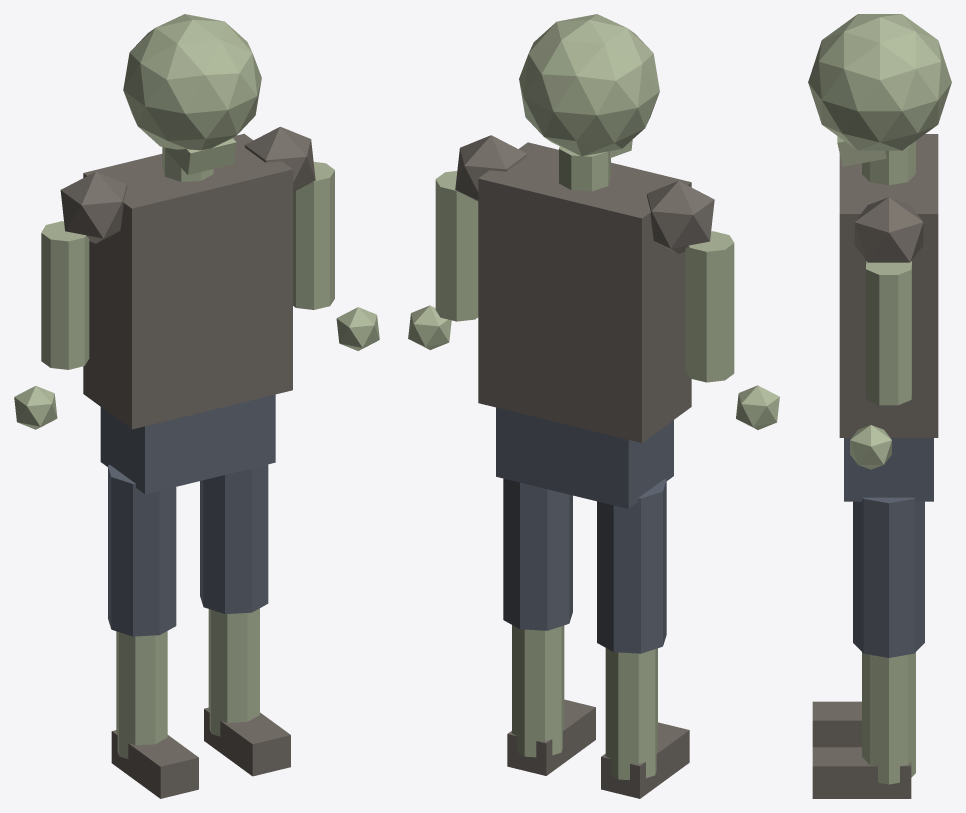
The model's file is zombie_stylized_v1.glb.
3 renders of one model, left to right at view 1: azimuth 30°, elevation 25°; view 2: azimuth 150°, elevation 25°; view 3: azimuth 270°, elevation 25°, orthographic.
Visible parts, largest first — view 1: Torso, Head, Pelvis, ThighL, ThighR, ArmL, ShinL, ShinR, ArmR, FootL, FootR, ShoulderL (+5 smaller); view 2: Torso, Head, Pelvis, ThighL, ThighR, ArmL, ShinR, ShinL, ArmR, ShoulderL, FootR, FootL (+4 smaller); view 3: Torso, Head, ThighR, ArmR, ShinR, Pelvis, FootR, ShoulderR, FootL, Neck, HandR, Jaw.
Boxes of the visible parts, bbox=[...] form: Torso: bbox=[83, 133, 292, 429]; Head: bbox=[123, 14, 261, 150]; Pelvis: bbox=[100, 394, 275, 494]; ThighL: bbox=[108, 464, 176, 636]; ThighR: bbox=[200, 464, 268, 613]; ArmL: bbox=[41, 221, 89, 369]; ShinL: bbox=[116, 631, 167, 758]; ShinR: bbox=[208, 608, 259, 736]; ArmR: bbox=[293, 162, 334, 309]; FootL: bbox=[111, 730, 198, 798]; FootR: bbox=[204, 707, 290, 776]; ShoulderL: bbox=[60, 171, 127, 243]; Torso: bbox=[478, 142, 691, 442]; Head: bbox=[519, 14, 659, 156]; Pelvis: bbox=[496, 407, 673, 508]; ThighL: bbox=[597, 479, 666, 653]; ThighR: bbox=[503, 478, 572, 630]; ArmL: bbox=[685, 231, 734, 382]; ShinR: bbox=[512, 625, 564, 757]; ShinL: bbox=[605, 648, 657, 780]; ArmR: bbox=[435, 171, 478, 321]; ShoulderL: bbox=[647, 181, 714, 254]; FootR: bbox=[507, 699, 595, 775]; FootL: bbox=[601, 722, 689, 798]; Torso: bbox=[839, 134, 938, 437]; Head: bbox=[808, 14, 951, 150]; ThighR: bbox=[853, 497, 924, 657]; ArmR: bbox=[866, 261, 911, 405]; ShinR: bbox=[862, 652, 915, 784]; Pelvis: bbox=[844, 438, 933, 501]; FootR: bbox=[812, 747, 911, 798]; ShoulderR: bbox=[854, 197, 923, 262]; FootL: bbox=[812, 701, 861, 747]; Neck: bbox=[862, 141, 915, 185]; HandR: bbox=[850, 425, 891, 469]; Jaw: bbox=[837, 136, 886, 166].
Bounding box in the file's own units: 0.9384 × 1.84 × 0.32.
